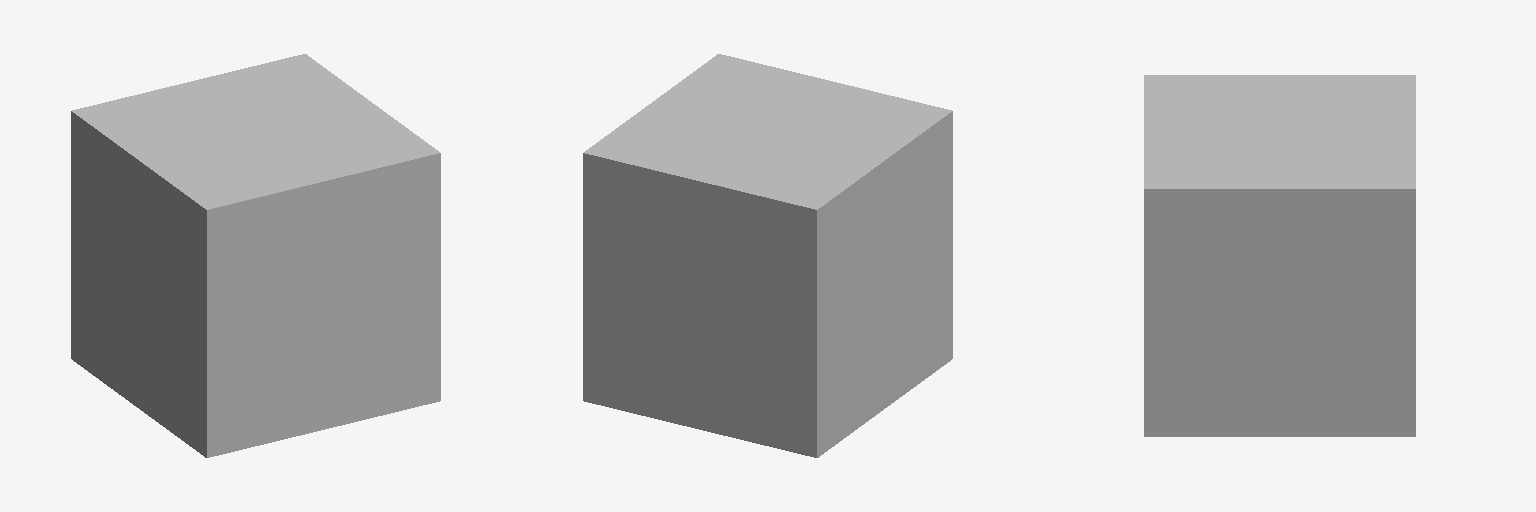
File: leaves_with_apple.obj
3 views of the same model, side by side, from view 1: azimuth 30°, elevation 25°; view 2: azimuth 150°, elevation 25°; view 3: azimuth 270°, elevation 25° (orthographic).
Visible parts, largest first — view 1: Cube_Cube.001; view 2: Cube_Cube.001; view 3: Cube_Cube.001.
Part boxes in pixels (x1,y1,x2,y2): Cube_Cube.001: (71, 54, 440, 457); Cube_Cube.001: (583, 54, 952, 457); Cube_Cube.001: (1144, 75, 1415, 436).
Bounding box in the file's own units: 0.9922 × 1 × 0.9954.